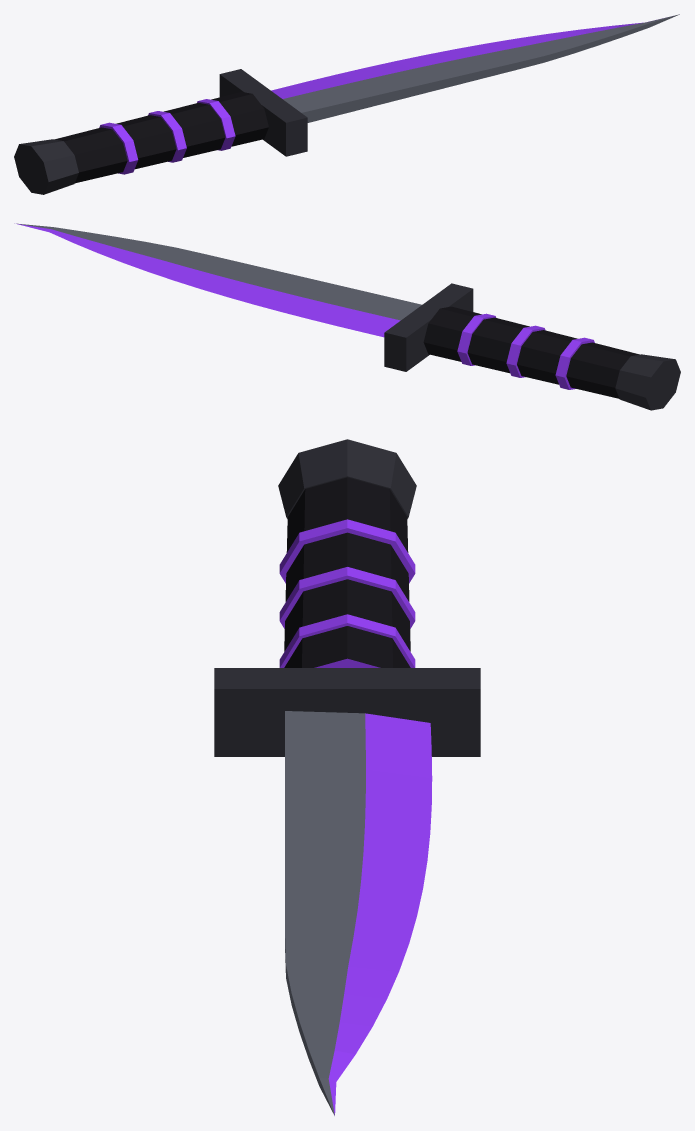
The model's file is knife.fbx.
3 views of the same model, one above another, from view 1: azimuth 30°, elevation 25°; view 2: azimuth 150°, elevation 25°; view 3: azimuth 270°, elevation 25° (orthographic). The views are drawn at different scales.
Visible parts, largest first — view 1: knife; view 2: knife; view 3: knife.
Boxes of the visible parts, x1=… form: knife: x1=14, y1=14, x2=679, y2=194; knife: x1=14, y1=223, x2=680, y2=410; knife: x1=214, y1=439, x2=480, y2=1115.
Bounding box in the file's own units: 0.359 × 0.0247 × 0.064.
